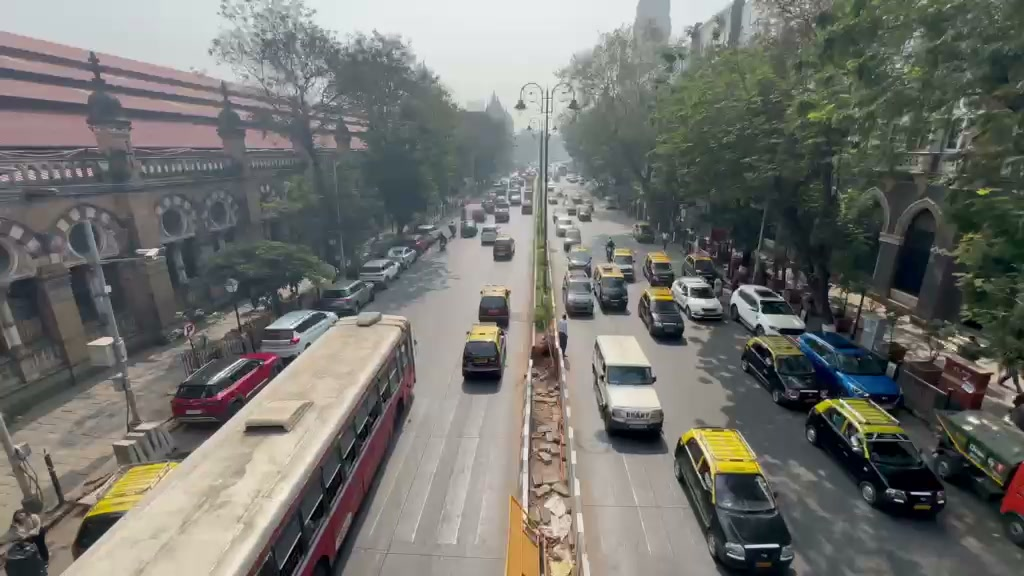bus: (63, 310, 416, 572)
car: (672, 424, 796, 574), (803, 396, 947, 517), (929, 408, 1023, 502), (169, 351, 283, 425), (798, 330, 903, 410), (590, 333, 664, 436), (740, 333, 831, 411), (257, 308, 338, 358), (729, 284, 806, 336), (670, 276, 726, 323), (637, 287, 685, 341), (461, 321, 505, 378), (998, 460, 1024, 548), (317, 277, 374, 316), (593, 268, 629, 313), (478, 285, 511, 328), (358, 257, 401, 288), (564, 278, 595, 318), (385, 244, 418, 269), (478, 224, 499, 245)
pedestrian: (1, 509, 51, 576)
truck: (672, 424, 797, 574), (803, 396, 948, 518)
